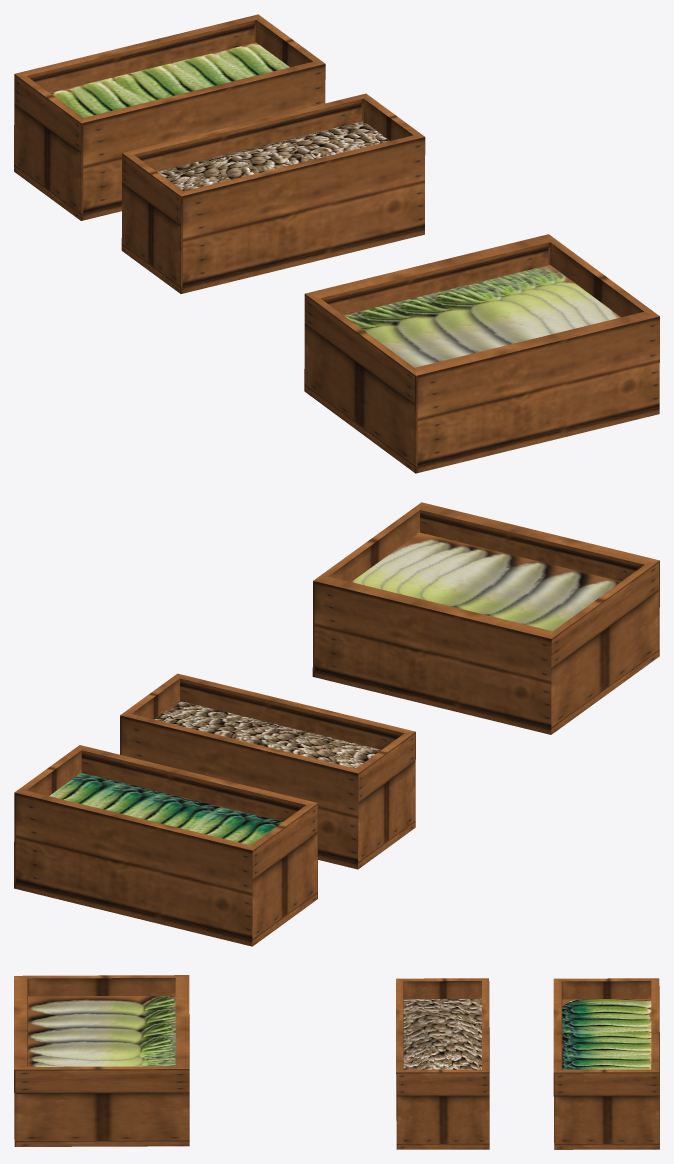
Rendered from cheso.FBX.
3 renders of one model, top to bottom at view 1: azimuth 30°, elevation 25°; view 2: azimuth 150°, elevation 25°; view 3: azimuth 270°, elevation 25°, orthographic. The views are drawn at different scales.
Visible parts, largest first — view 1: jim_bike:pCube3, jim_bike:pCube006, jim_bike:pCube007; view 2: jim_bike:pCube3, jim_bike:pCube007, jim_bike:pCube006; view 3: jim_bike:pCube3, jim_bike:pCube007, jim_bike:pCube006.
Part boxes in pixels (x1=…): jim_bike:pCube3: x1=304, y1=234, x2=659, y2=473; jim_bike:pCube006: x1=121, y1=93, x2=425, y2=293; jim_bike:pCube007: x1=14, y1=14, x2=325, y2=220; jim_bike:pCube3: x1=312, y1=502, x2=659, y2=734; jim_bike:pCube007: x1=14, y1=745, x2=318, y2=946; jim_bike:pCube006: x1=120, y1=673, x2=415, y2=869; jim_bike:pCube3: x1=14, y1=975, x2=189, y2=1146; jim_bike:pCube007: x1=553, y1=978, x2=659, y2=1149; jim_bike:pCube006: x1=396, y1=978, x2=489, y2=1149.
Bounding box in the file's own units: 7.14 × 2.68 × 20.12.
2 materials, 2 textured.
